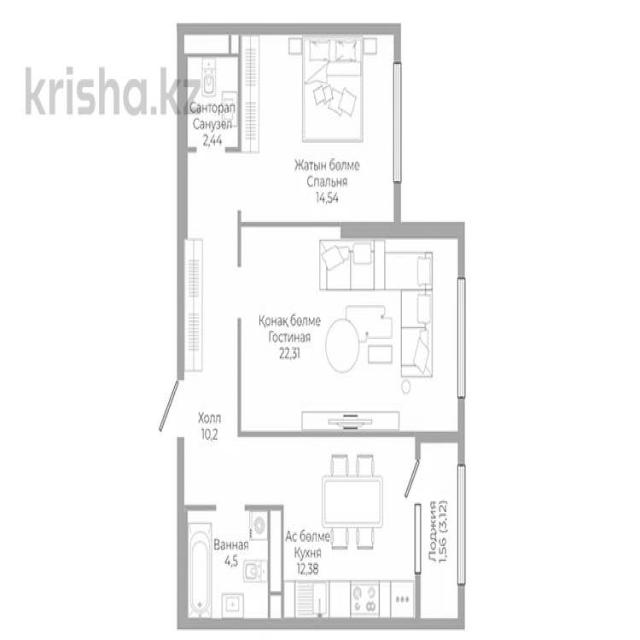balcony: (416, 439, 462, 625)
bathroom: (183, 510, 269, 623), (183, 29, 239, 150)
hallway: (181, 151, 239, 509)
kitchen: (282, 433, 418, 622)
living_room: (240, 228, 463, 436), (240, 33, 398, 225)
